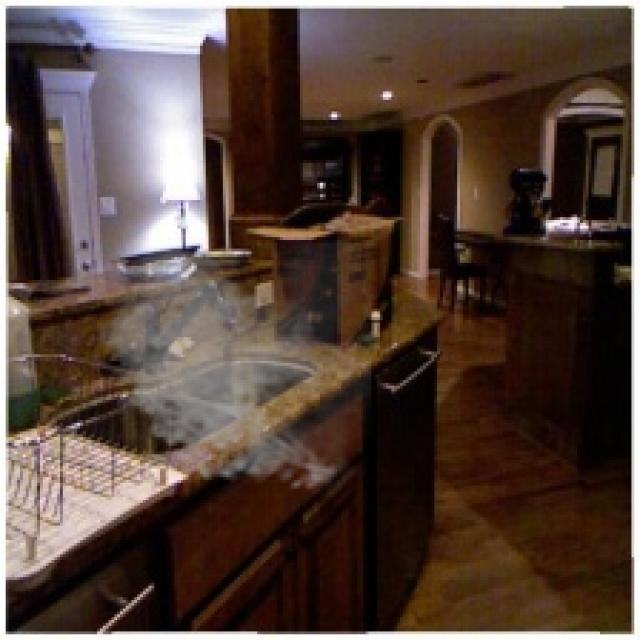smoke: (88, 240, 372, 497)
